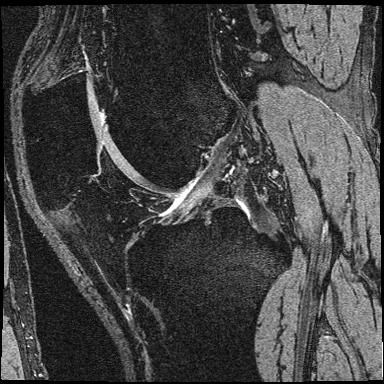SagKneeJointArea: (22, 70, 294, 311)
